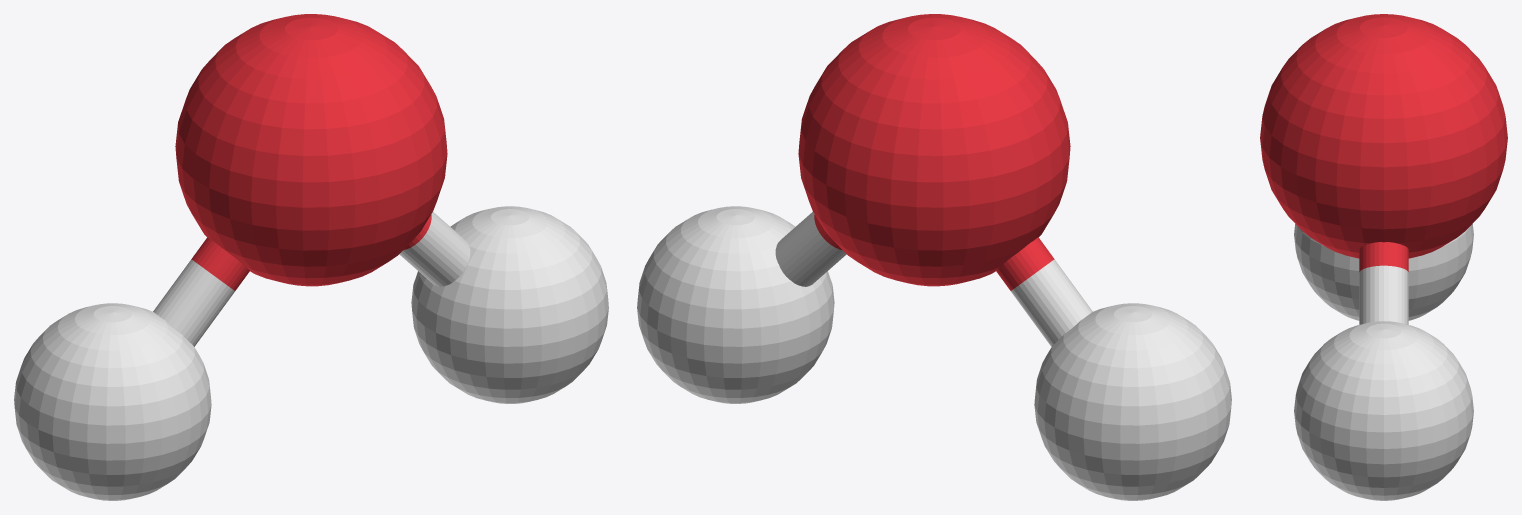
File: water.glb
The picture shows the model from 3 angles, left to right: view 1: azimuth 30°, elevation 25°; view 2: azimuth 150°, elevation 25°; view 3: azimuth 270°, elevation 25°; orthographic projection. The views are drawn at different scales.
Parts seen in each view (by area): view 1: centerO, leftH, RightH, CylinderL, CylinderR; view 2: centerO, leftH, RightH, CylinderL, CylinderR; view 3: centerO, RightH, leftH, CylinderR.
Part boxes in pixels (x1,y1,x2,y2): centerO: [175, 14, 447, 286]; leftH: [14, 303, 211, 500]; RightH: [411, 206, 608, 403]; CylinderL: [153, 237, 249, 346]; CylinderR: [399, 212, 470, 286]; centerO: [798, 14, 1070, 286]; leftH: [1034, 303, 1231, 500]; RightH: [637, 206, 834, 403]; CylinderL: [996, 237, 1092, 346]; CylinderR: [775, 212, 846, 286]; centerO: [1260, 14, 1507, 258]; RightH: [1294, 321, 1473, 500]; leftH: [1294, 224, 1473, 320]; CylinderR: [1359, 242, 1408, 324].
Bounding box in the file's own units: 4.82 × 3.37 × 2.
